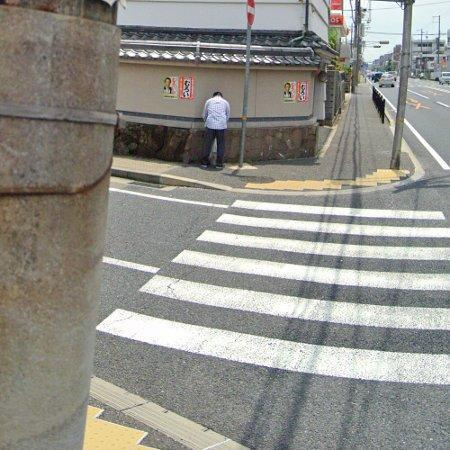crosswalks: (93, 180, 450, 387)
